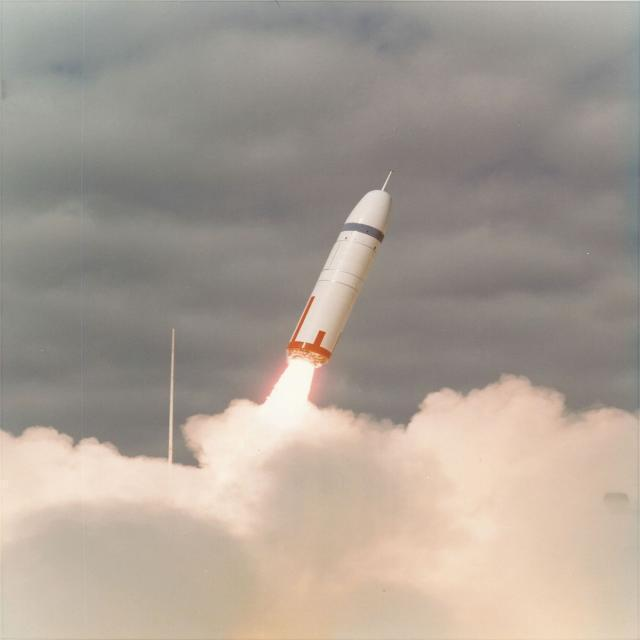missile: (286, 180, 400, 364)
